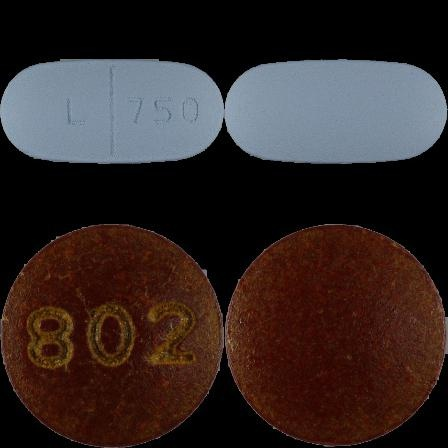42043-192: (0, 0, 224, 224)
